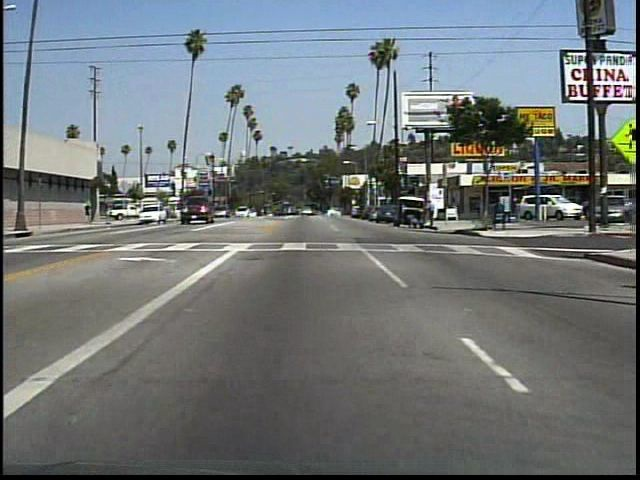person: (426, 197, 439, 231), (470, 193, 484, 221), (407, 213, 425, 231), (84, 199, 93, 227)
